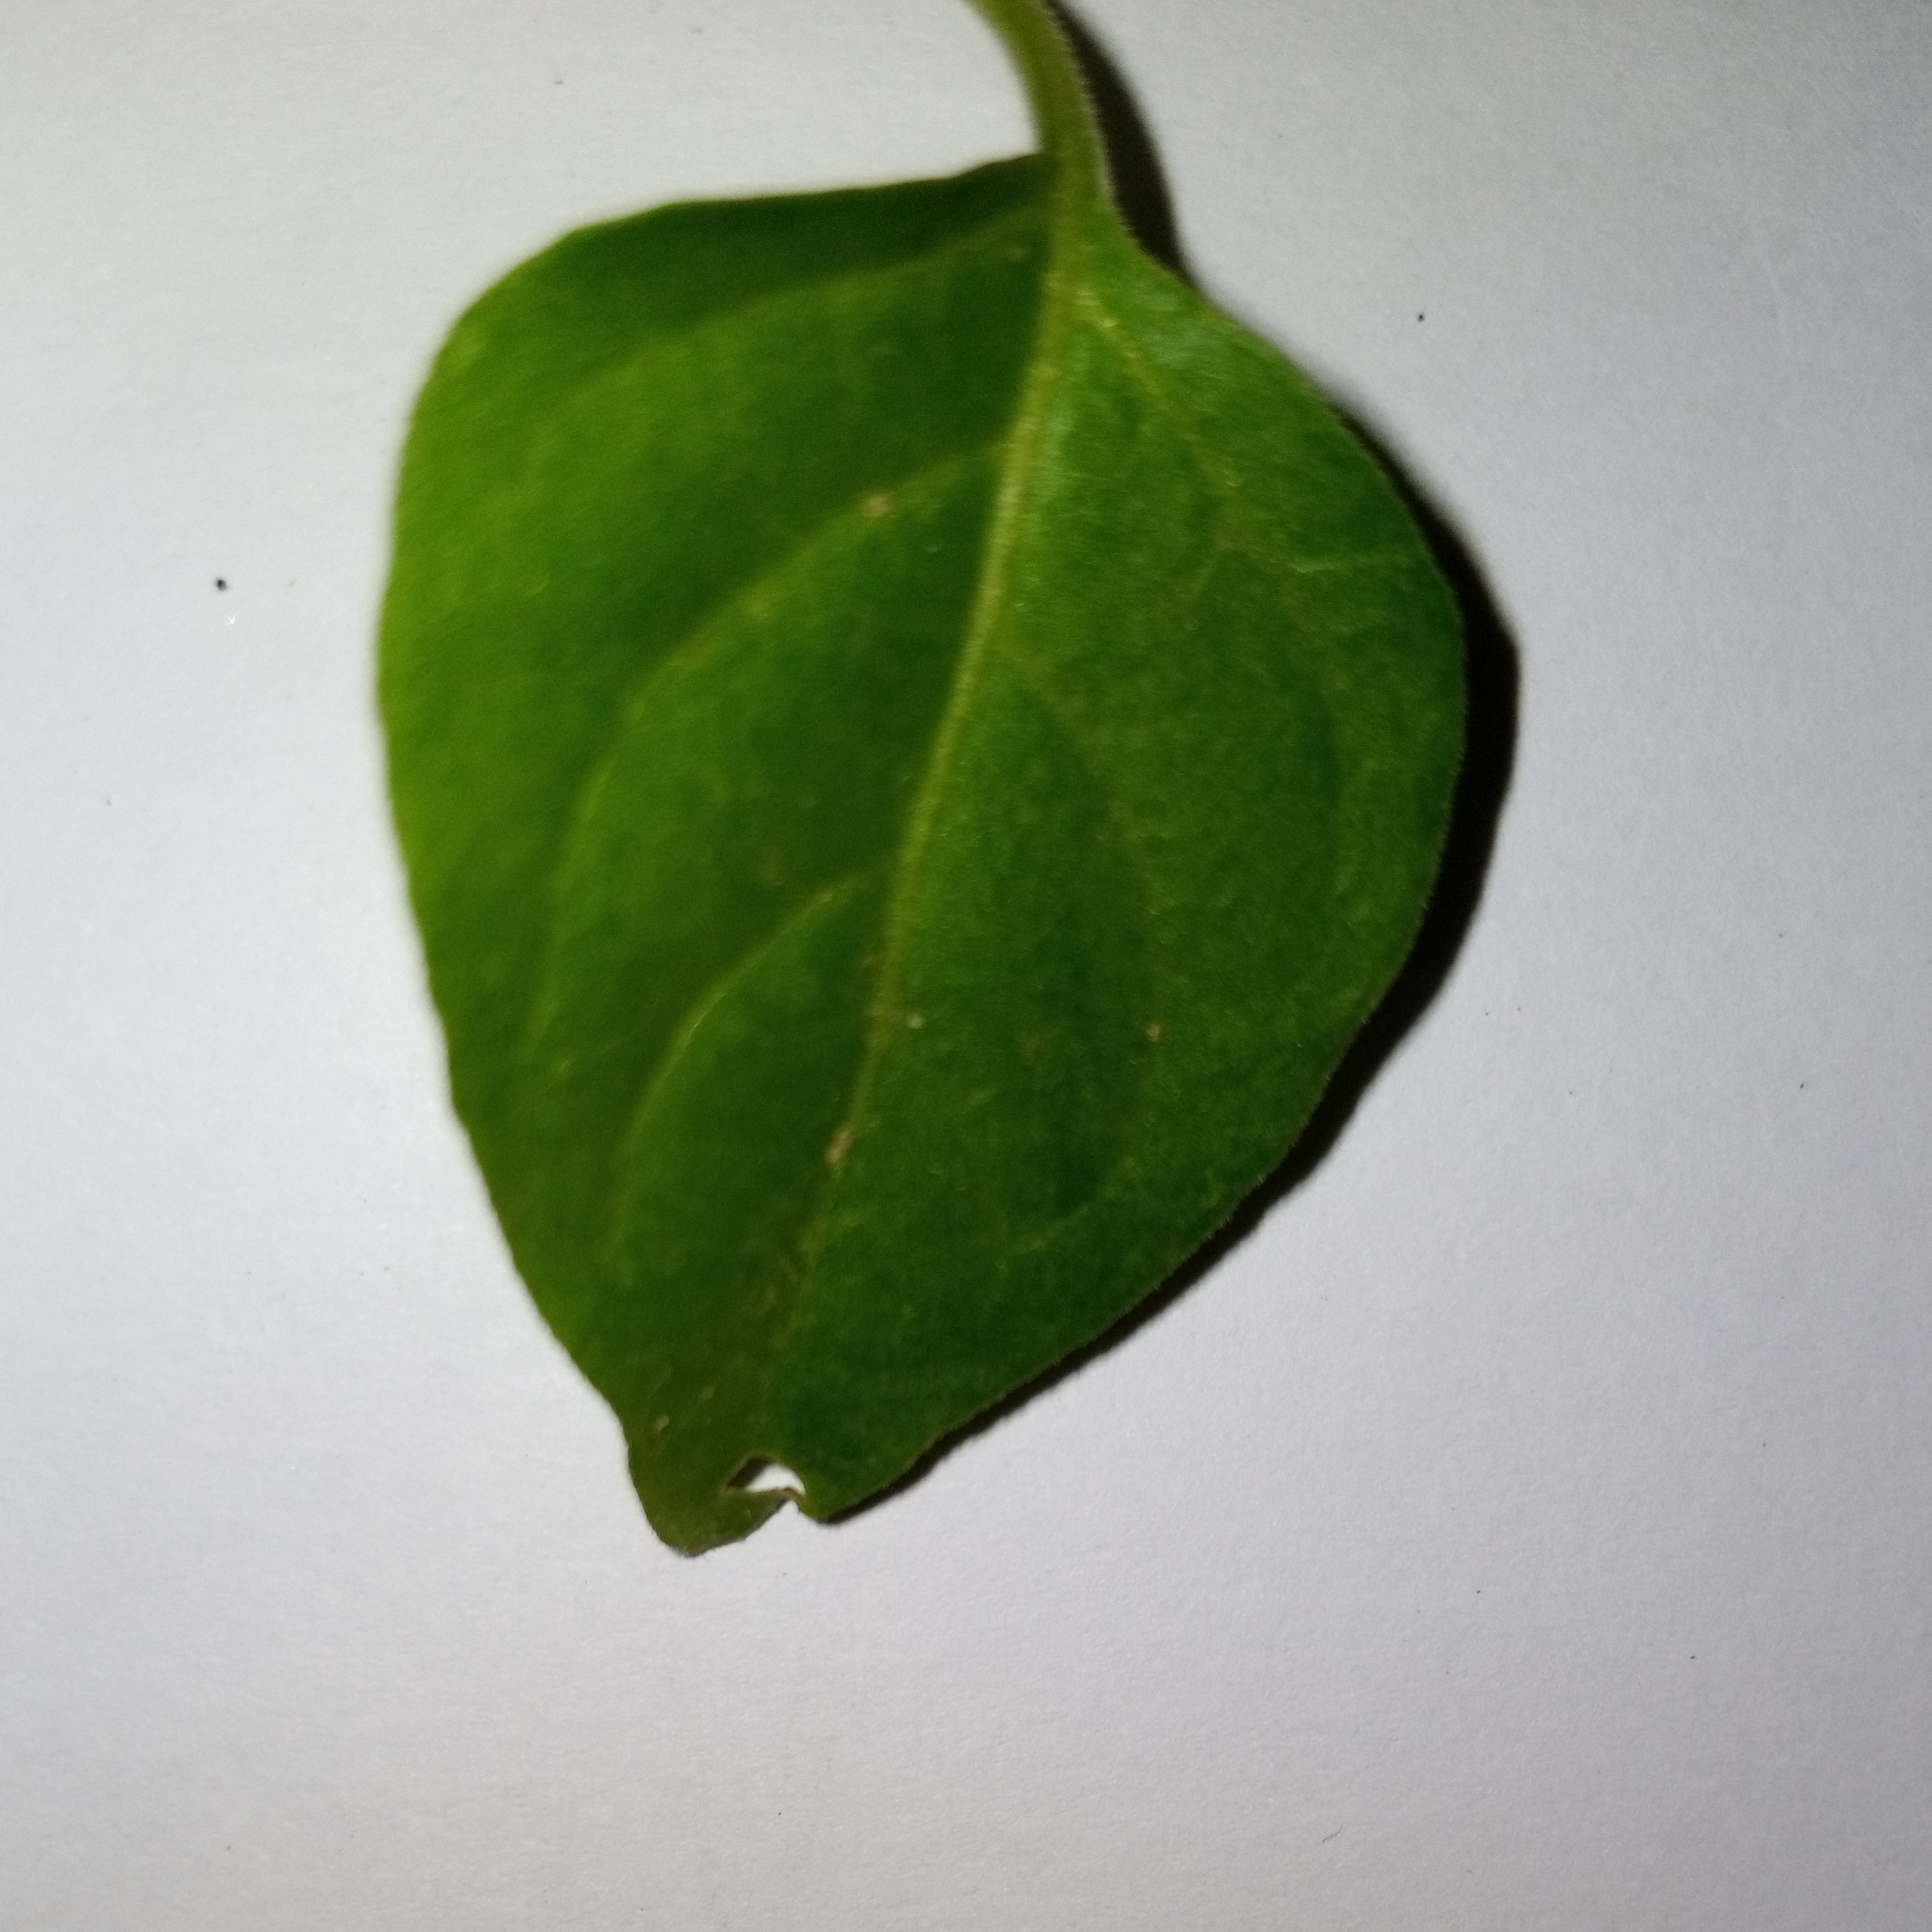Leaf: (276, 81, 1578, 1638)
